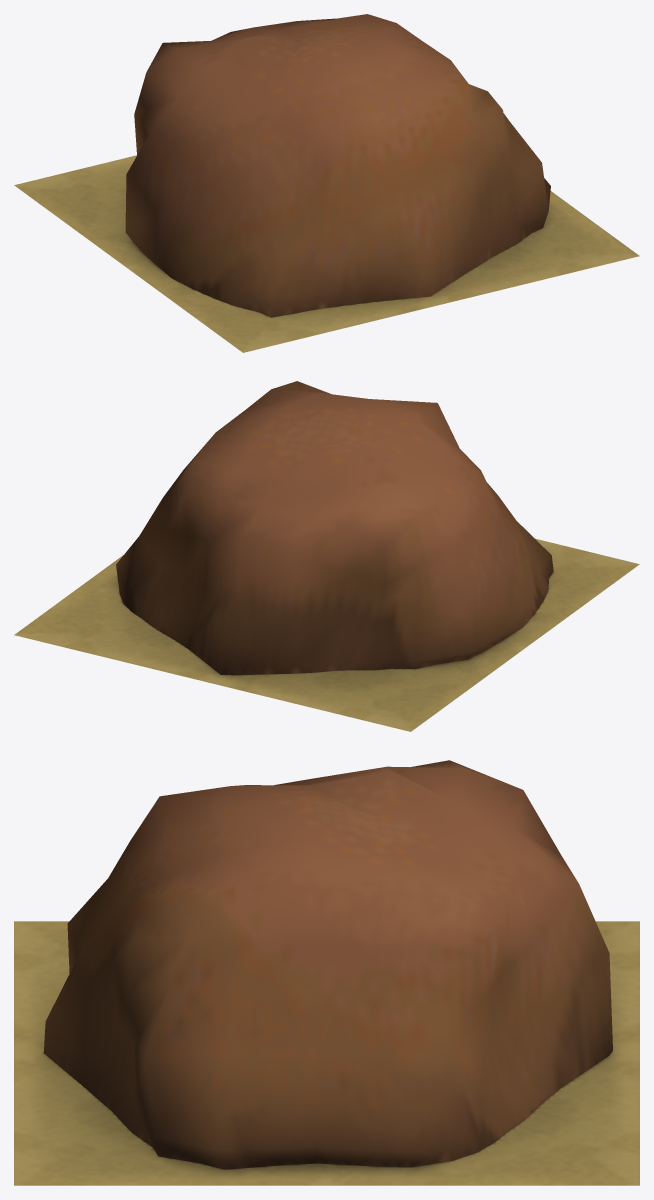
Rendered from L-Sol_Rocher2.FBX.
3 renders of one model, top to bottom at view 1: azimuth 30°, elevation 25°; view 2: azimuth 150°, elevation 25°; view 3: azimuth 270°, elevation 25°, orthographic. The views are drawn at different scales.
Parts seen in each view (by area): view 1: Sol_Rocher2; view 2: Sol_Rocher2; view 3: Sol_Rocher2.
Boxes of the visible parts, x1,y1,x2,y2 form: Sol_Rocher2: (14,14,639,352); Sol_Rocher2: (14,381,639,731); Sol_Rocher2: (14,760,639,1185).
Bounding box in the file's own units: 2 × 0.9276 × 2.
